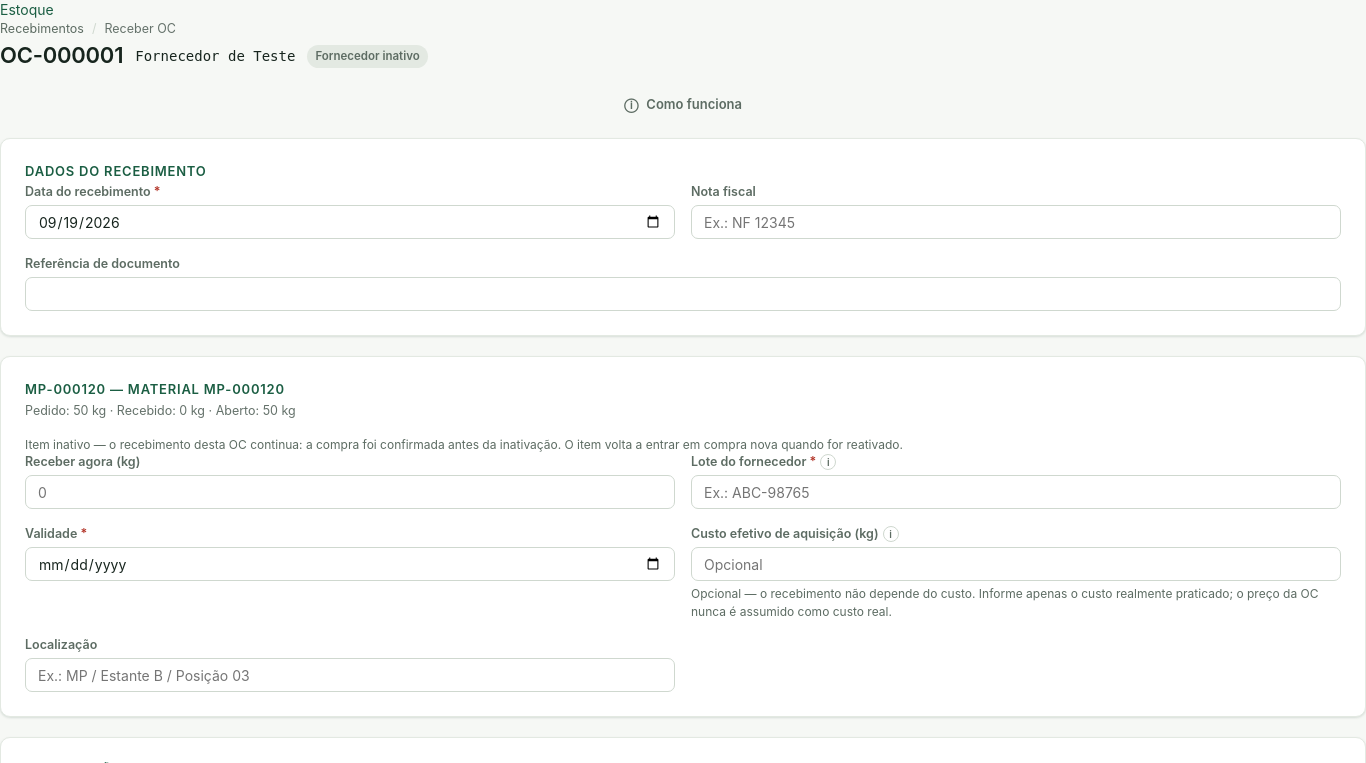
Test: Recebimento de OC — guarda de alterações não salvas › Continuar editando mantém a conferência; Sair vai ao destino pedido
Expected: the heading "MP-000120 — Material MP-000120" is shown, left=25, top=381, right=285, bottom=397
In the field labelled "Receber agora (kg)": {"x": 350, "y": 492} left=25, top=475, right=675, bottom=509, type "20"
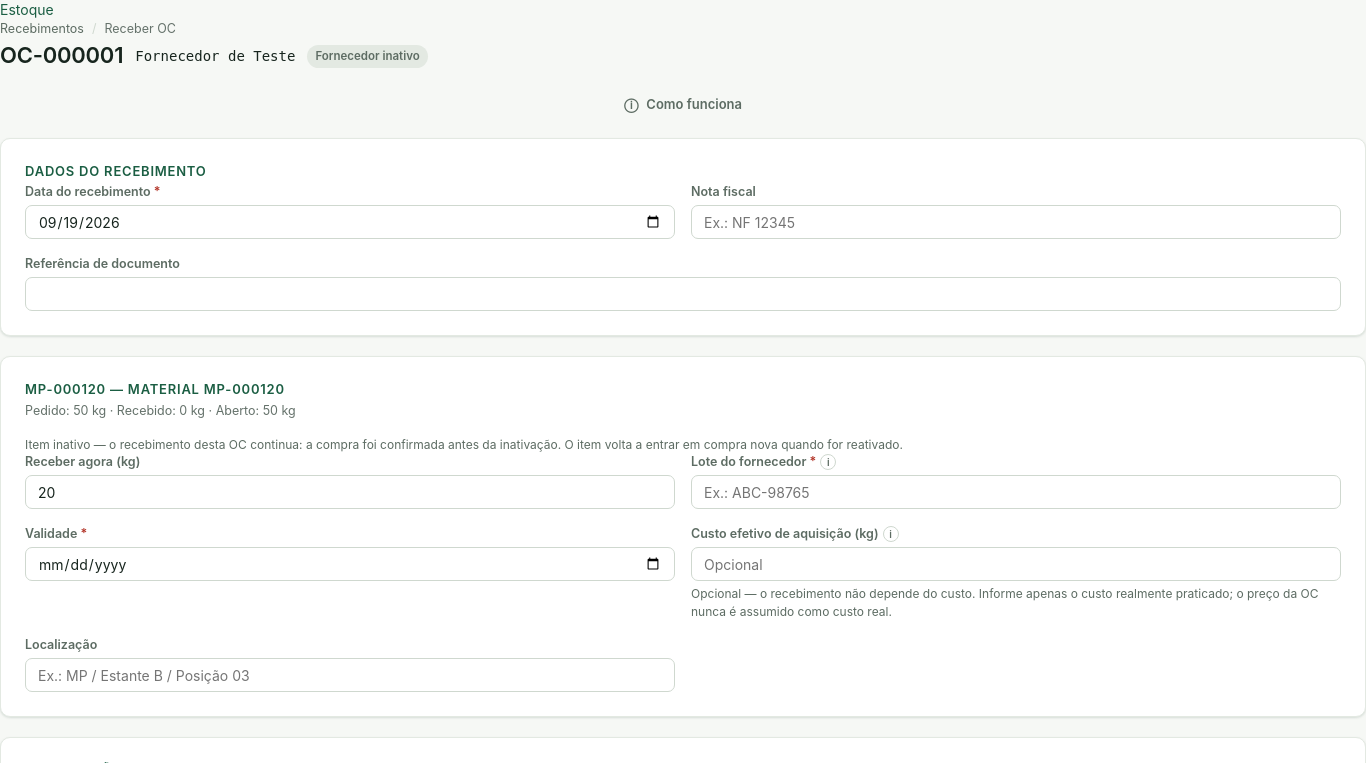
In the field with id "supplier-lot-poline-a": {"x": 1016, "y": 492} left=691, top=475, right=1341, bottom=509, type "LT-2026-09"
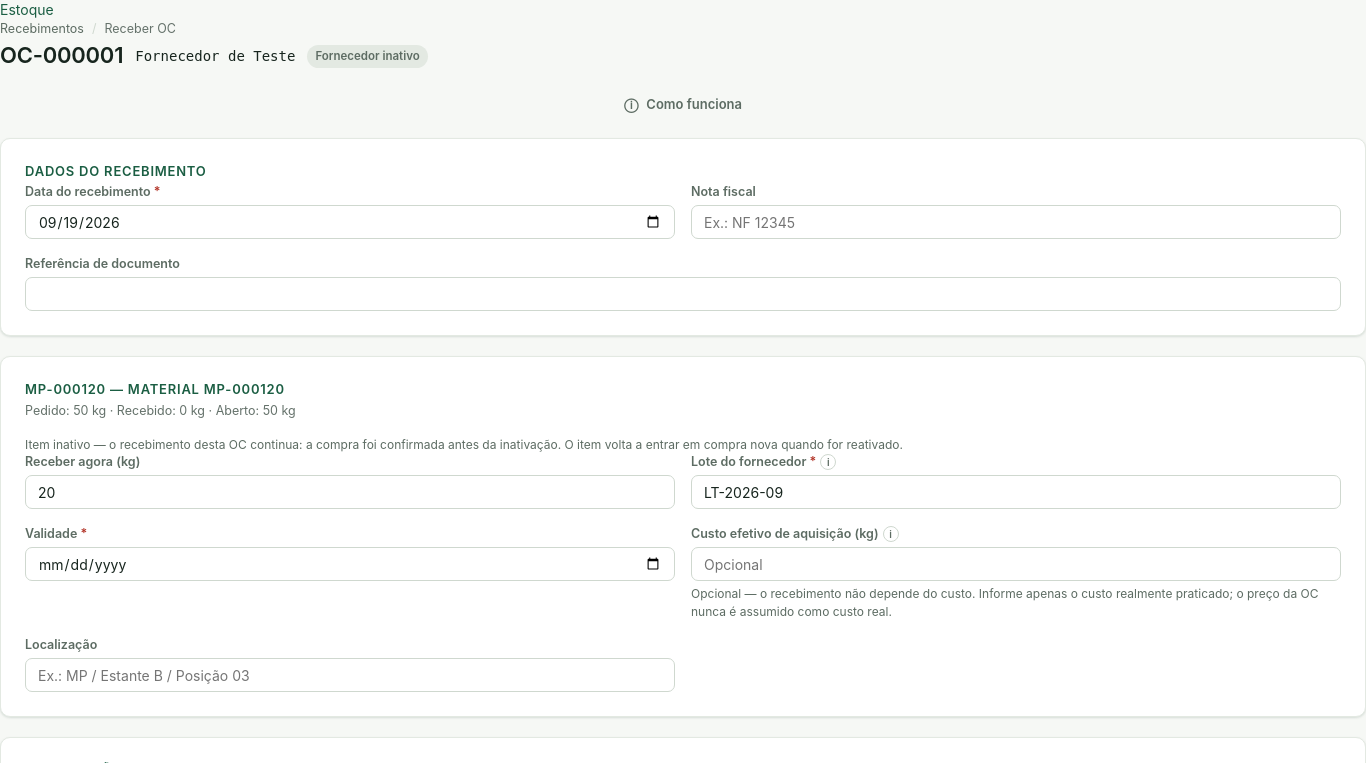
Click the link "Estoque": {"x": 27, "y": 10} left=0, top=1, right=54, bottom=18
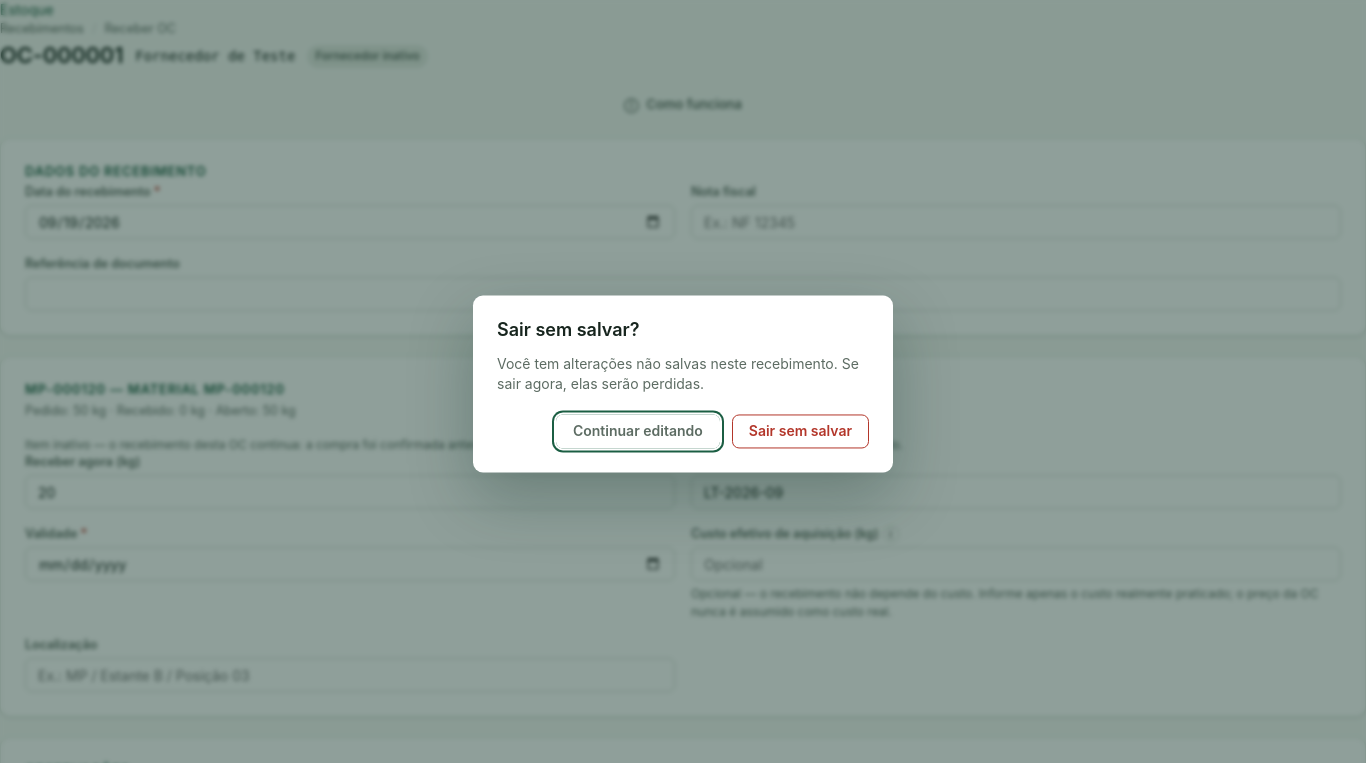
Click the button "Continuar editando": {"x": 638, "y": 432} left=556, top=414, right=720, bottom=448
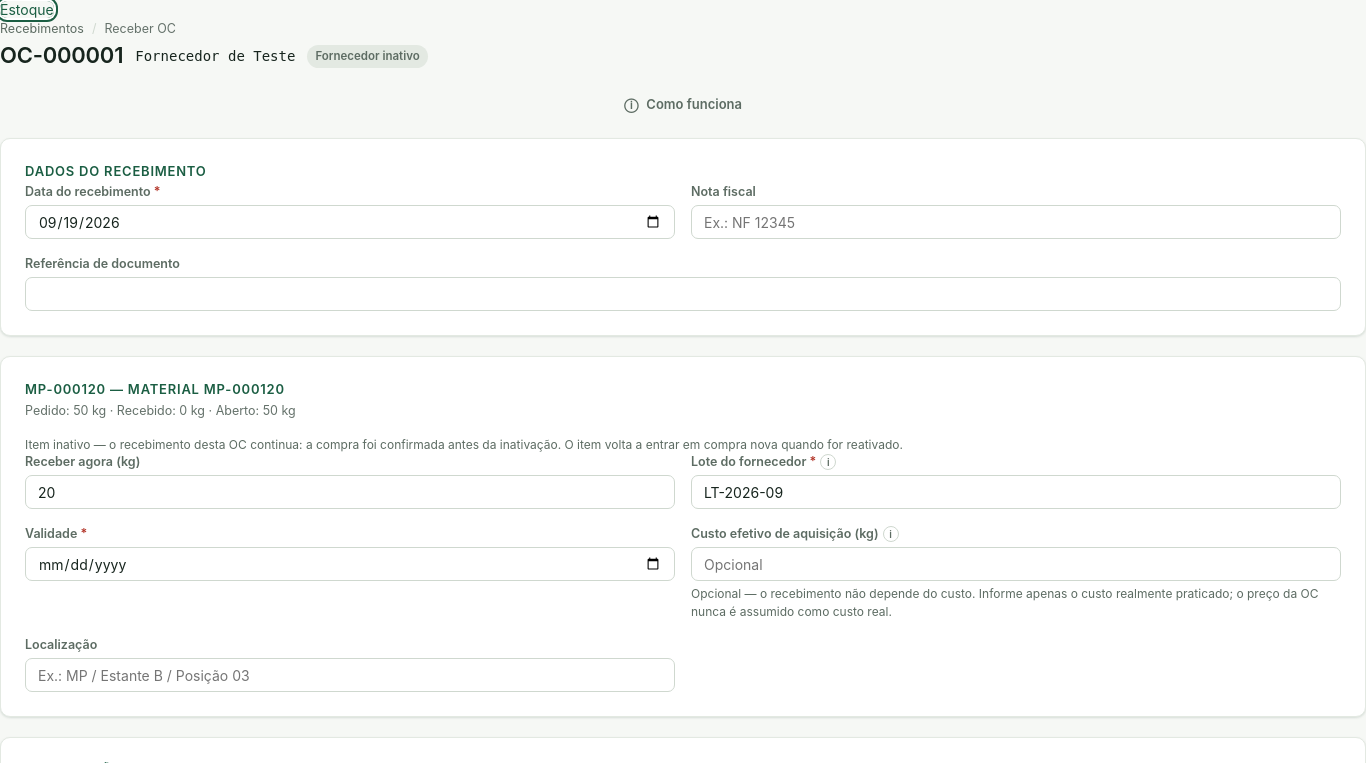
Expected: the dialog is gone
Click the link "Estoque": {"x": 27, "y": 10} left=0, top=1, right=54, bottom=18
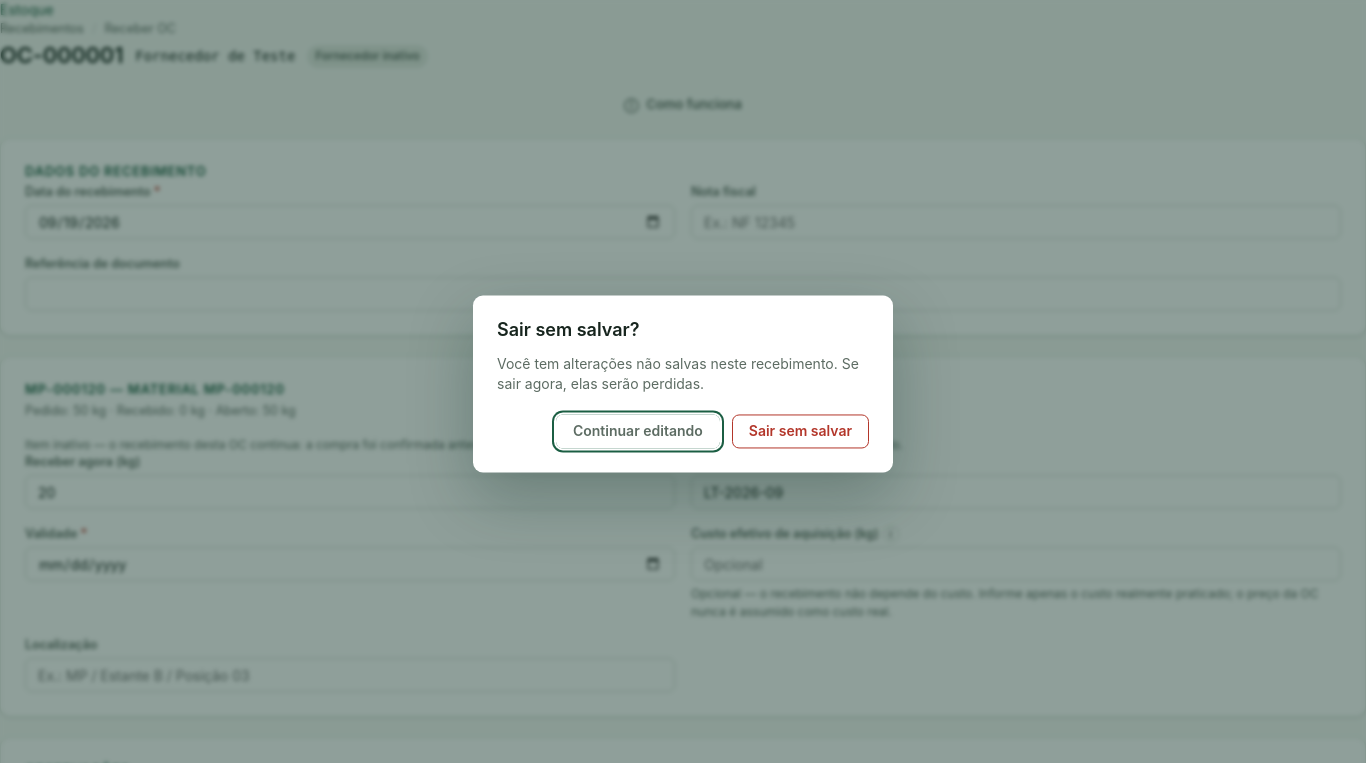
Click the button "Sair sem salvar": {"x": 800, "y": 432} left=732, top=414, right=869, bottom=448
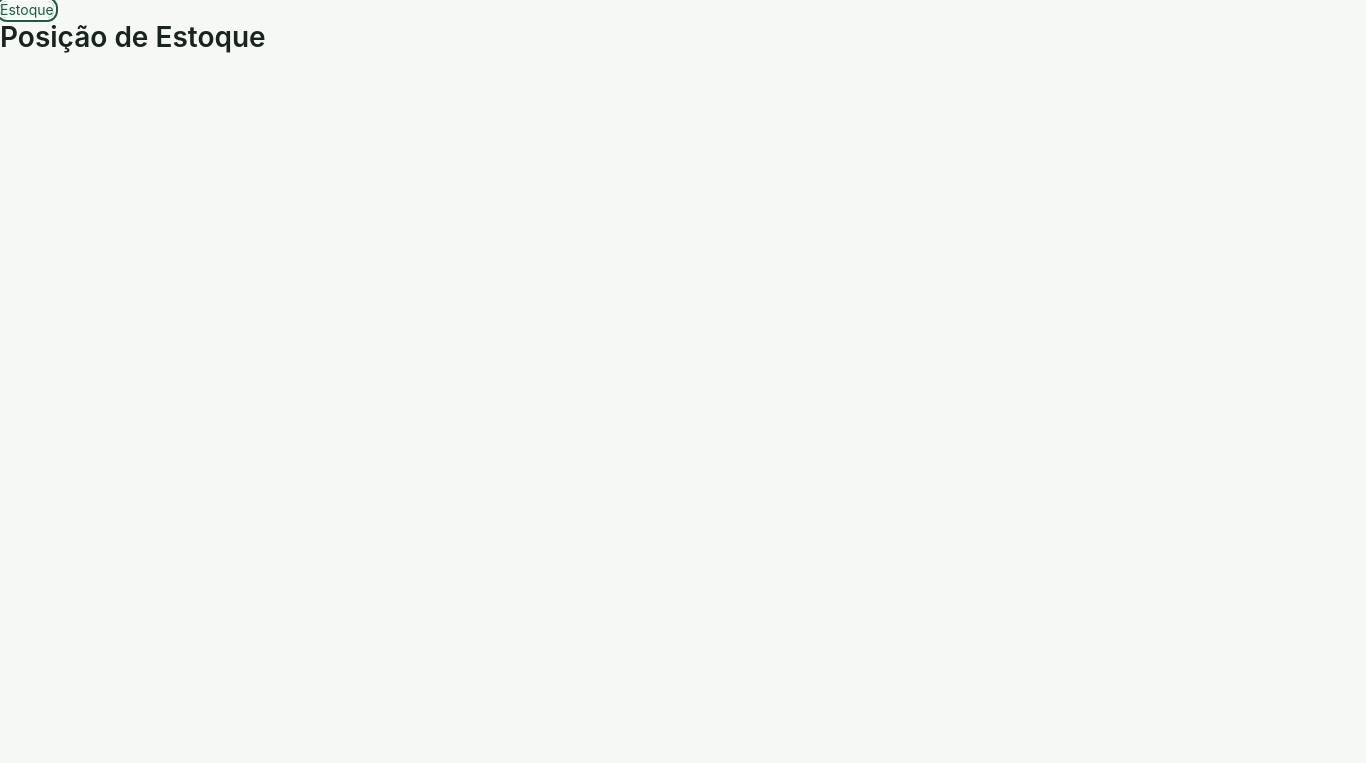
Expected: the heading "Posição de Estoque" is shown, left=0, top=20, right=266, bottom=54
